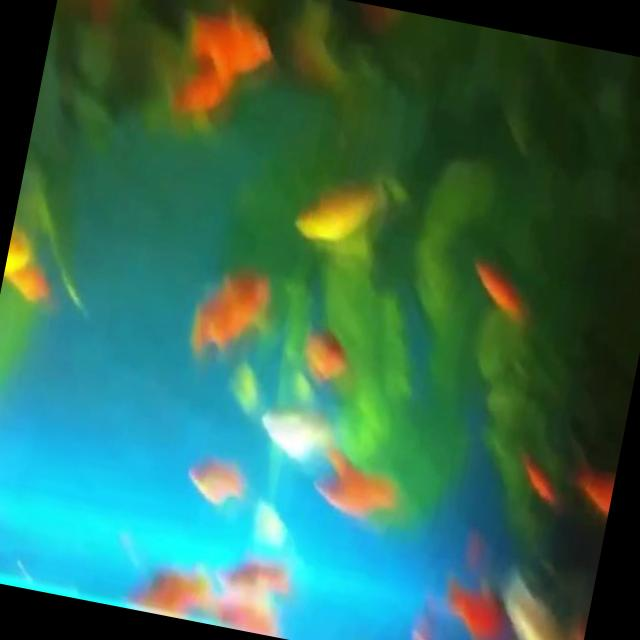PlatyFish: (178, 248, 283, 368)
